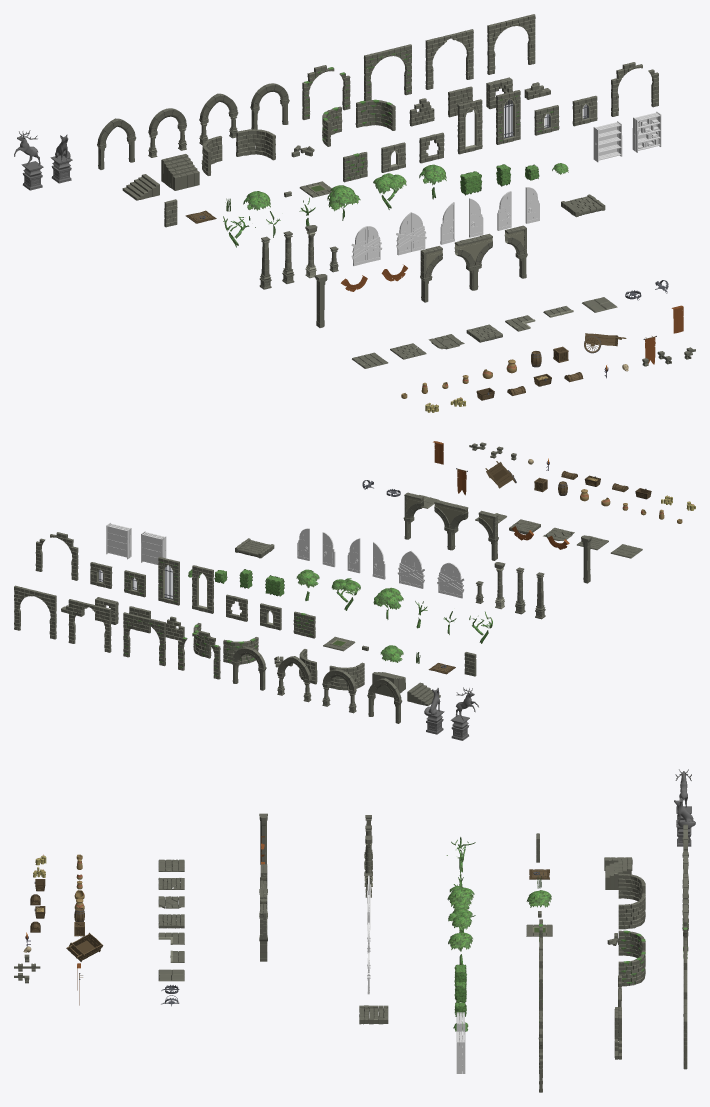
3 views of the same model, one above another, from view 1: azimuth 30°, elevation 25°; view 2: azimuth 150°, elevation 25°; view 3: azimuth 270°, elevation 25° (orthographic). The views are drawn at different scales.
Parts seen in each view (by area): view 1: Window_Bars_Double_Overgrown, Wall_ArchRound, Wall_ArchGothic, Stairs_2, Wall_ArchRound_Overgrown, Support_Center, Curve_2_Overgrown, Curve_2, Bookcase_Empty, Bookcase_Full, Window_Open_Double, Doors_GothicArch_Covered (+17 smaller); view 2: Window_Bars_Double_Overgrown, Wall_ArchRound_Overgrown, Wall_ArchRound, Wall_ArchGothic, Support_Center, Bookcase_Full, Doors_GothicArch_Covered, Window_Open_Double, Doors_RoundArch_Covered, Bookcase_Empty, Statue_Stag, Wall_ArchRound_Overgrown_Broken (+18 smaller); view 3: Curve_2, Curve_2_Overgrown, Curve_1_Overgrown, Curve_1, Cart, BridgeSection, Stairs_2, Statue_Fox.
Boxes of the visible parts, x1=… form: Window_Bars_Double_Overgrown: x1=496, y1=90, x2=520, y2=144; Wall_ArchRound: x1=487, y1=14, x2=535, y2=74; Wall_ArchGothic: x1=425, y1=29, x2=473, y2=89; Stairs_2: x1=161, y1=154, x2=199, y2=190; Wall_ArchRound_Overgrown: x1=364, y1=44, x2=411, y2=100; Support_Center: x1=454, y1=233, x2=492, y2=290; Curve_2_Overgrown: x1=355, y1=99, x2=395, y2=130; Curve_2: x1=236, y1=129, x2=275, y2=160; Bookcase_Empty: x1=593, y1=121, x2=622, y2=162; Bookcase_Full: x1=632, y1=111, x2=661, y2=152; Window_Open_Double: x1=457, y1=99, x2=482, y2=154; Doors_GothicArch_Covered: x1=396, y1=212, x2=426, y2=255; Window_Bars_Double_Overgrown: x1=158, y1=557, x2=179, y2=605; Wall_ArchRound_Overgrown: x1=123, y1=612, x2=165, y2=666; Wall_ArchRound: x1=14, y1=585, x2=56, y2=639; Wall_ArchGothic: x1=68, y1=599, x2=111, y2=652; Support_Center: x1=434, y1=500, x2=468, y2=550; Bookcase_Full: x1=106, y1=522, x2=131, y2=559; Doors_GothicArch_Covered: x1=397, y1=550, x2=424, y2=588; Window_Open_Double: x1=192, y1=565, x2=213, y2=613; Doors_RoundArch_Covered: x1=437, y1=562, x2=464, y2=598; Bookcase_Empty: x1=141, y1=531, x2=166, y2=564; Statue_Stag: x1=450, y1=687, x2=478, y2=740; Wall_ArchRound_Overgrown_Broken: x1=178, y1=631, x2=220, y2=679; Curve_2: x1=618, y1=893, x2=645, y2=929; Curve_2_Overgrown: x1=618, y1=950, x2=645, y2=986; Curve_1_Overgrown: x1=618, y1=930, x2=645, y2=965; Curve_1: x1=618, y1=873, x2=645, y2=908; Cart: x1=66, y1=932, x2=103, y2=961; BridgeSection: x1=359, y1=1005, x2=388, y2=1024; Stairs_2: x1=605, y1=857, x2=631, y2=889; Statue_Fox: x1=674, y1=798, x2=695, y2=846.
Size of the model in its own units: 4907 by 694 by 5190.
31 materials, 3 textured.
